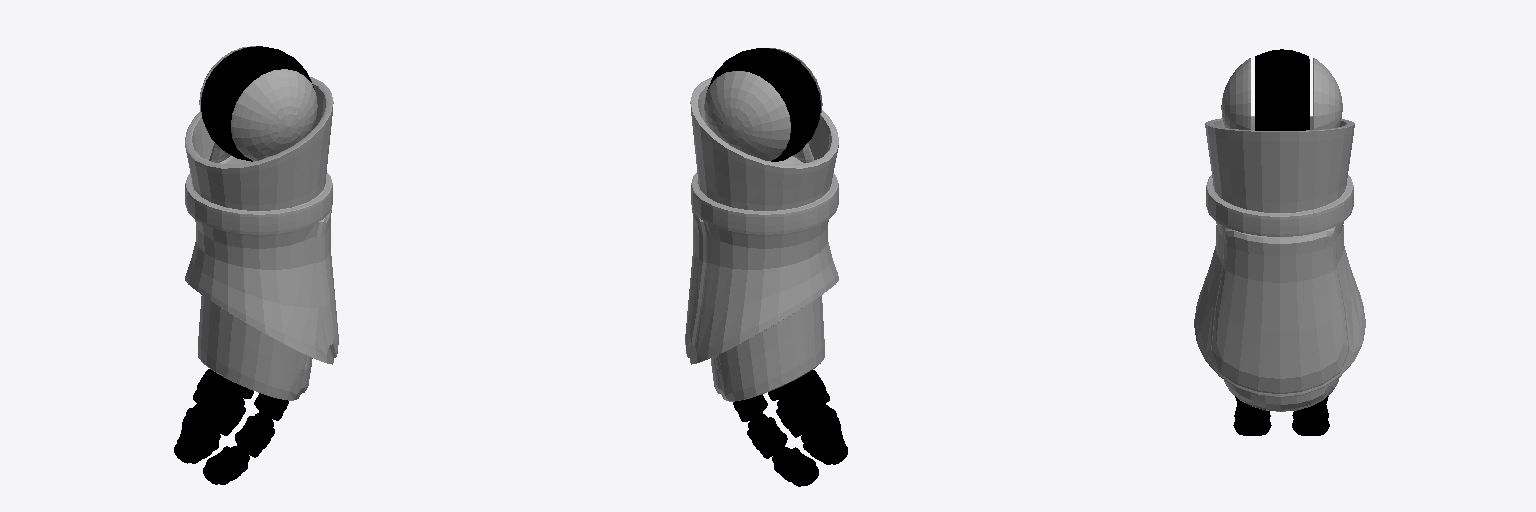
The model's file is left_forearm.obj.
The picture shows the model from 3 angles: view 1: azimuth 30°, elevation 25°; view 2: azimuth 150°, elevation 25°; view 3: azimuth 270°, elevation 25°; orthographic projection.
Visible parts, largest first — view 1: _Robot_l2:Body transform17, transform8 _Robot_l2:Body, _Robot_l2:Body transform11, _Robot_l2:Body transform15, _Robot_l2:Body transform10, _Robot_l2:Body transform16, _Robot_l2:Body transform13, _Robot_l2:Body transform14, _Robot_l2:Body transform9; view 2: _Robot_l2:Body transform17, transform8 _Robot_l2:Body, _Robot_l2:Body transform14, _Robot_l2:Body transform15, _Robot_l2:Body transform13, _Robot_l2:Body transform16, _Robot_l2:Body transform10, _Robot_l2:Body transform11, _Robot_l2:Body transform12; view 3: _Robot_l2:Body transform17, transform8 _Robot_l2:Body, _Robot_l2:Body transform13, _Robot_l2:Body transform10.
Part boxes in pixels (x1,y1,x2,y2): _Robot_l2:Body transform17: (185, 46, 338, 400); transform8 _Robot_l2:Body: (201, 46, 314, 161); _Robot_l2:Body transform11: (203, 446, 249, 484); _Robot_l2:Body transform15: (180, 404, 214, 452); _Robot_l2:Body transform10: (235, 413, 274, 457); _Robot_l2:Body transform16: (193, 369, 236, 411); _Robot_l2:Body transform13: (212, 394, 245, 435); _Robot_l2:Body transform14: (174, 430, 220, 463); _Robot_l2:Body transform9: (254, 393, 288, 420); _Robot_l2:Body transform17: (685, 48, 838, 401); transform8 _Robot_l2:Body: (707, 48, 820, 161); _Robot_l2:Body transform14: (772, 447, 818, 486); _Robot_l2:Body transform15: (807, 404, 842, 452); _Robot_l2:Body transform13: (747, 414, 787, 458); _Robot_l2:Body transform16: (786, 370, 829, 412); _Robot_l2:Body transform10: (776, 393, 810, 437); _Robot_l2:Body transform11: (801, 432, 847, 464); _Robot_l2:Body transform12: (733, 394, 767, 421); _Robot_l2:Body transform17: (1194, 58, 1365, 411); transform8 _Robot_l2:Body: (1255, 49, 1309, 130); _Robot_l2:Body transform13: (1292, 405, 1328, 429); _Robot_l2:Body transform10: (1234, 405, 1270, 429).
Bounding box in the file's own units: 2.28 × 6.27 × 2.41.